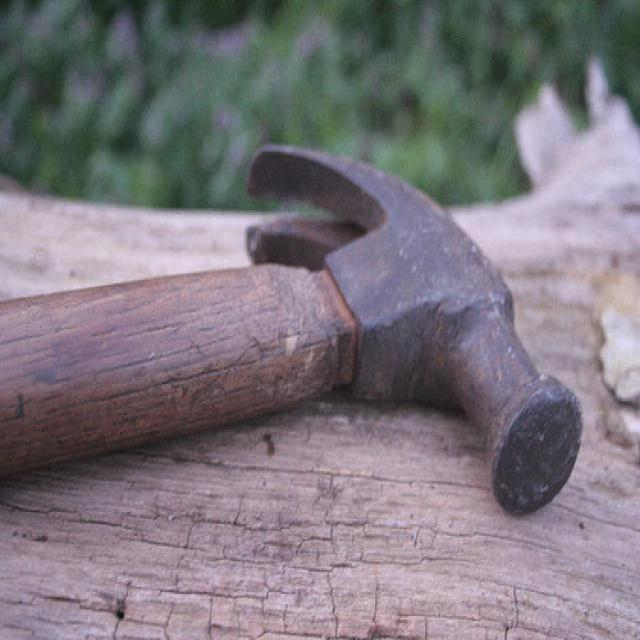hammer: (0, 65, 604, 517)
